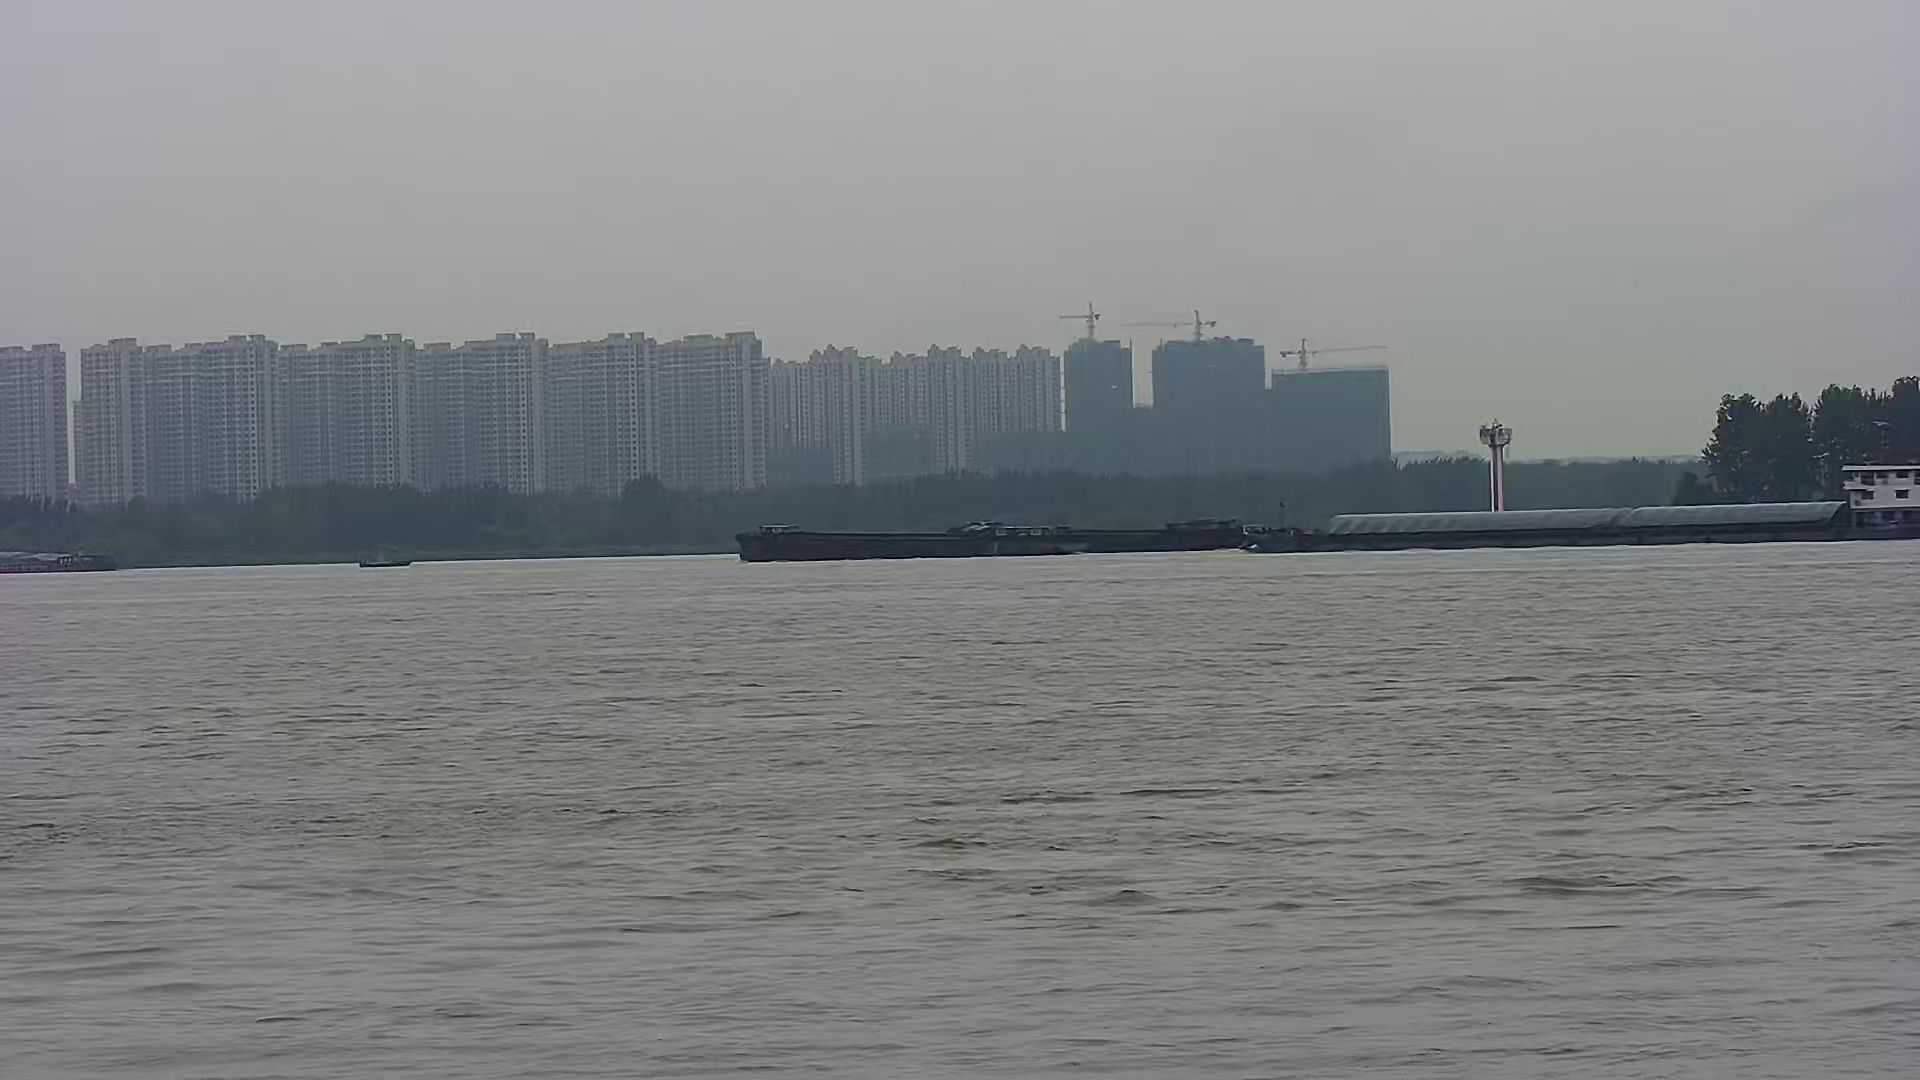boat: (355, 545, 410, 570)
ship: (1246, 417, 1920, 551), (735, 510, 1254, 558), (1, 545, 123, 572)
